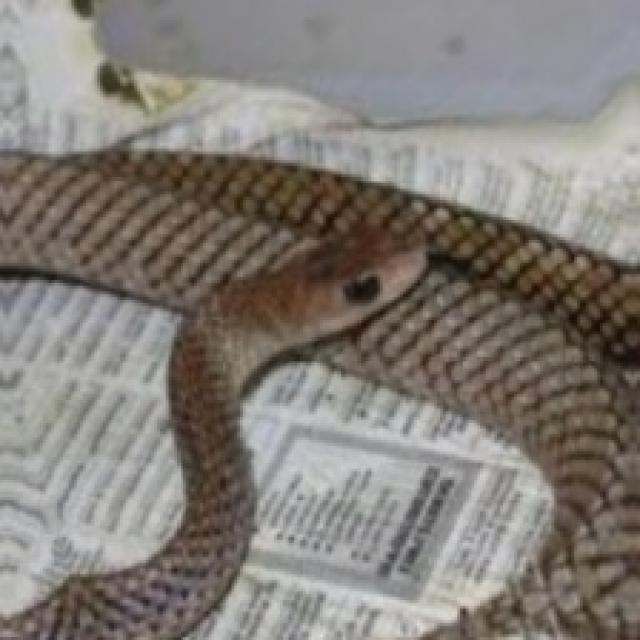smooth-scaled mountain rat snake: (0, 149, 637, 637)
